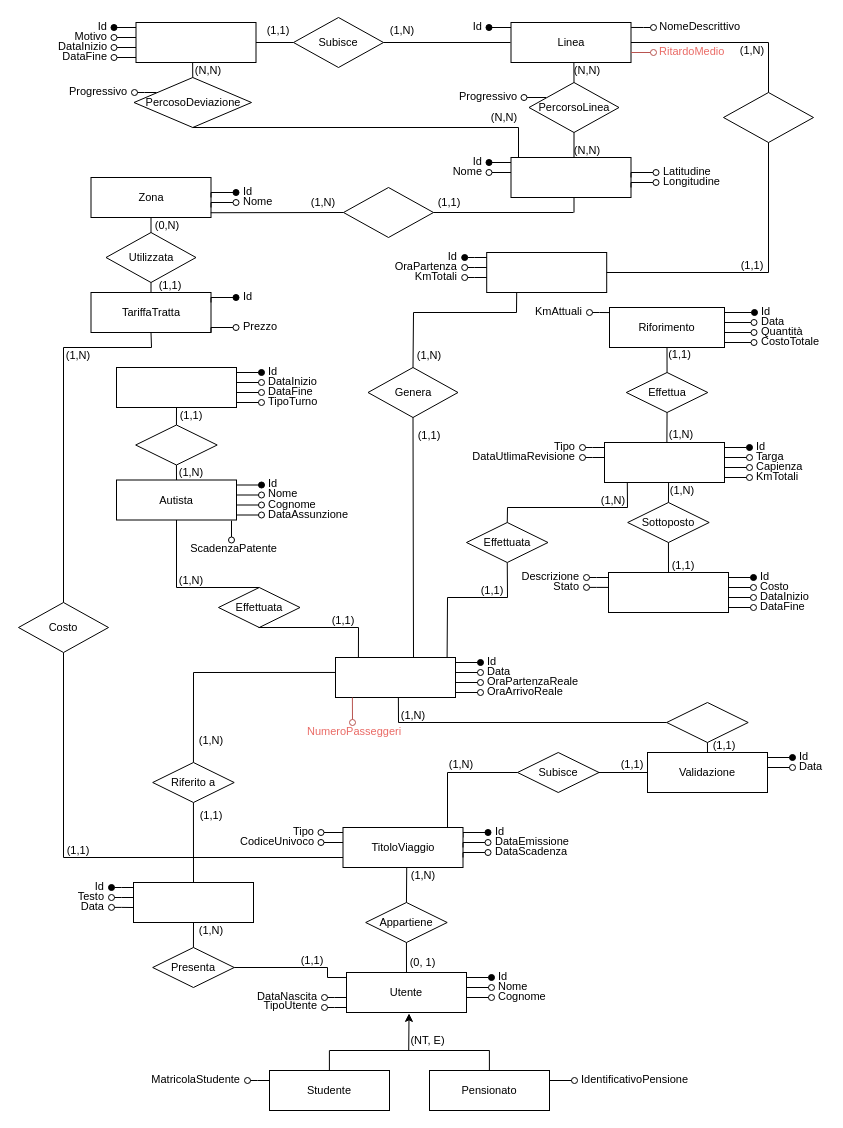
Image size: 843x1128. Some labels were removed from this diagram. The shapes that lost their labels are listed below. From the top down, each one's centre as x and y in pixels, then its label:
the point at 195,42: Deviazione
the point at 768,117: Prevede
the point at 570,177: Fermata
the point at 388,212: Include
the point at 546,272: CorsaPianficata
the point at 176,387: Turno
the point at 176,444: Svolge
the point at 664,462: Mezzo
the point at 668,592: Manutenzione
the point at 395,677: CorsaEffettiva
the point at 707,722: Durante
the point at 193,902: Reclamo
